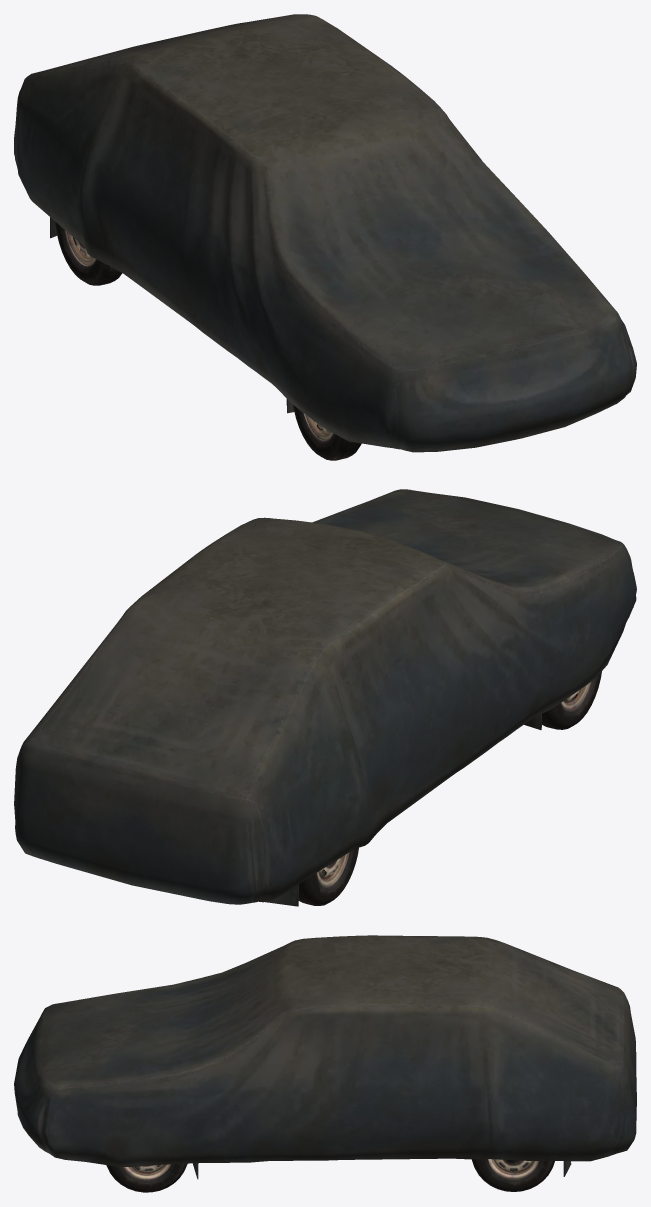
Rendered from covered_car.glb.
3 views of the same model, one above another, from view 1: azimuth 30°, elevation 25°; view 2: azimuth 150°, elevation 25°; view 3: azimuth 270°, elevation 25° (orthographic). The views are drawn at different scales.
Parts seen in each view (by area): view 1: covered_car_wheel_01; view 2: covered_car_wheel_01; view 3: covered_car_wheel_01.
Boxes of the visible parts, x1=… form: covered_car_wheel_01: x1=14, y1=14, x2=636, y2=460; covered_car_wheel_01: x1=14, y1=489, x2=636, y2=906; covered_car_wheel_01: x1=14, y1=935, x2=636, y2=1192.
Size of the model in its own units: 1.79 by 1.41 by 4.38.
1 material, 1 textured.
